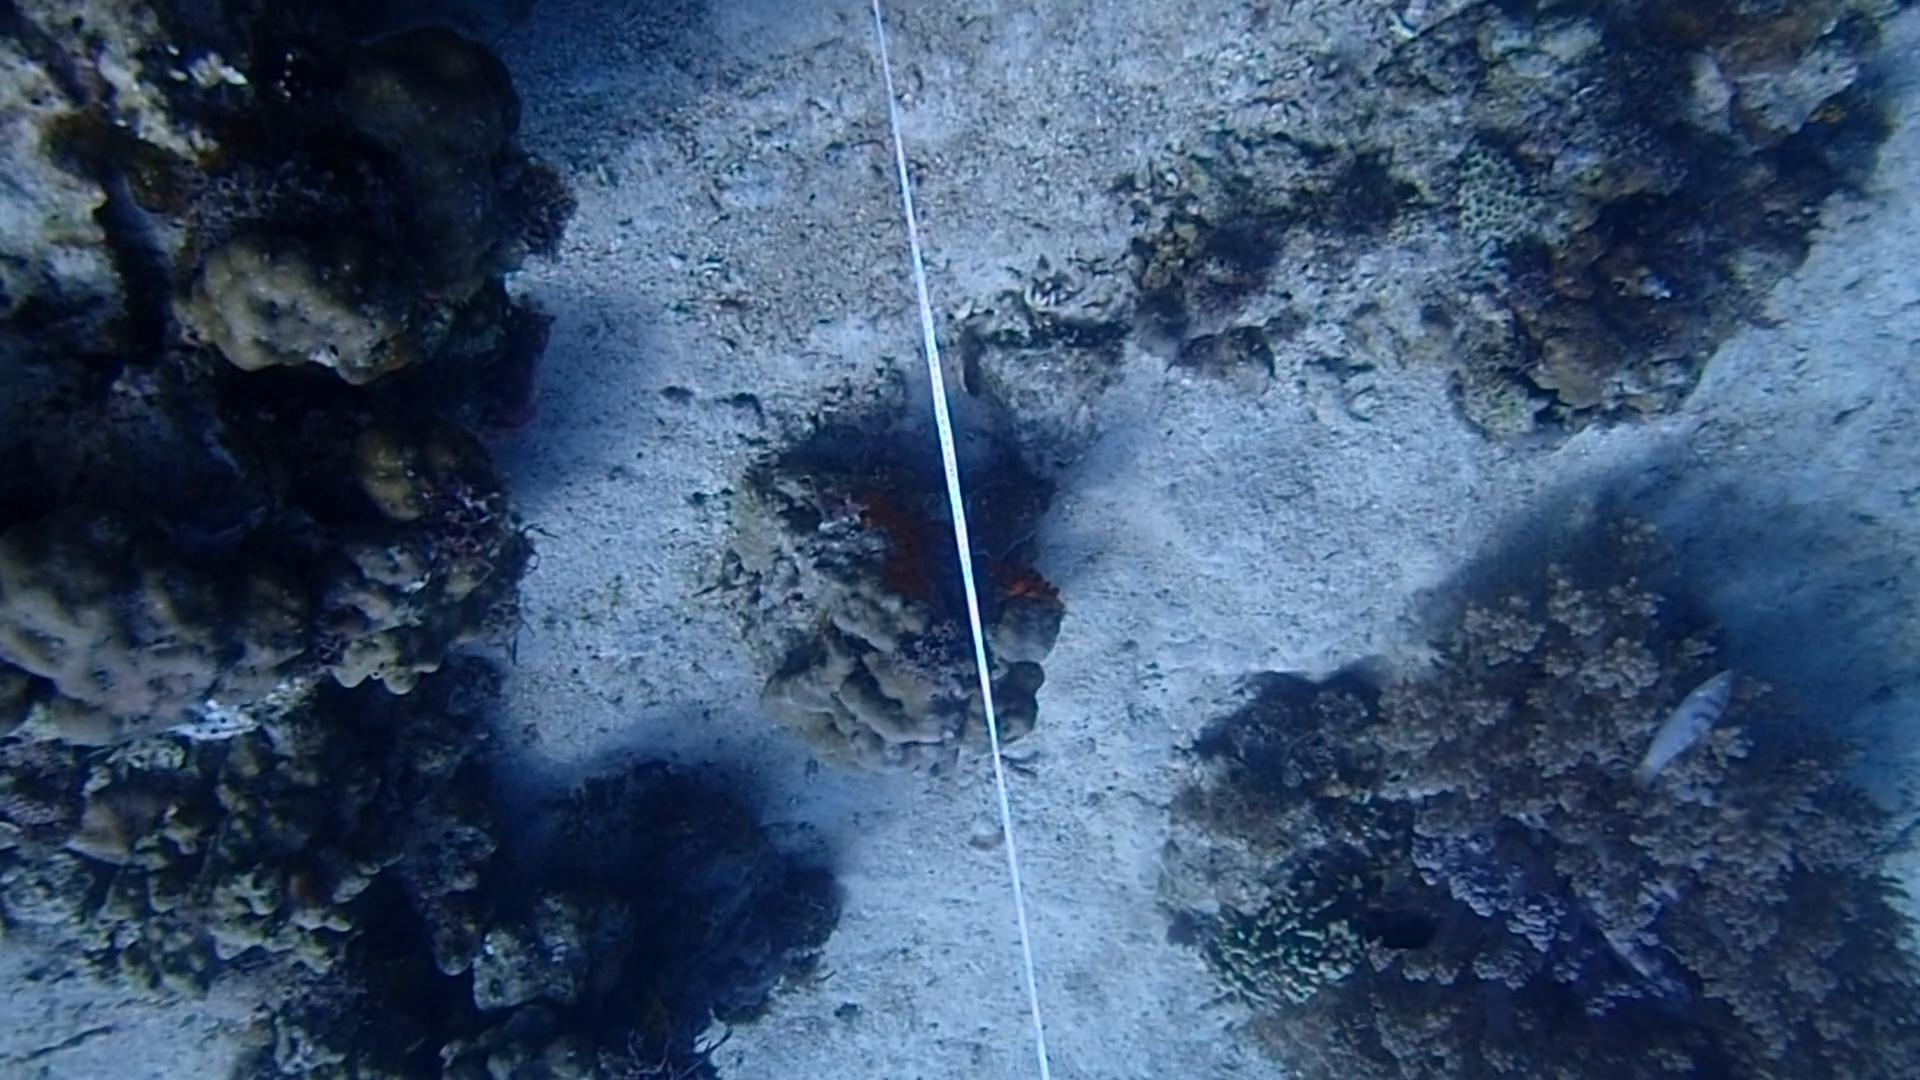Dark Fish: (1353, 894, 1443, 965)
Light Fish w Back Stripes: (1638, 663, 1743, 789)
